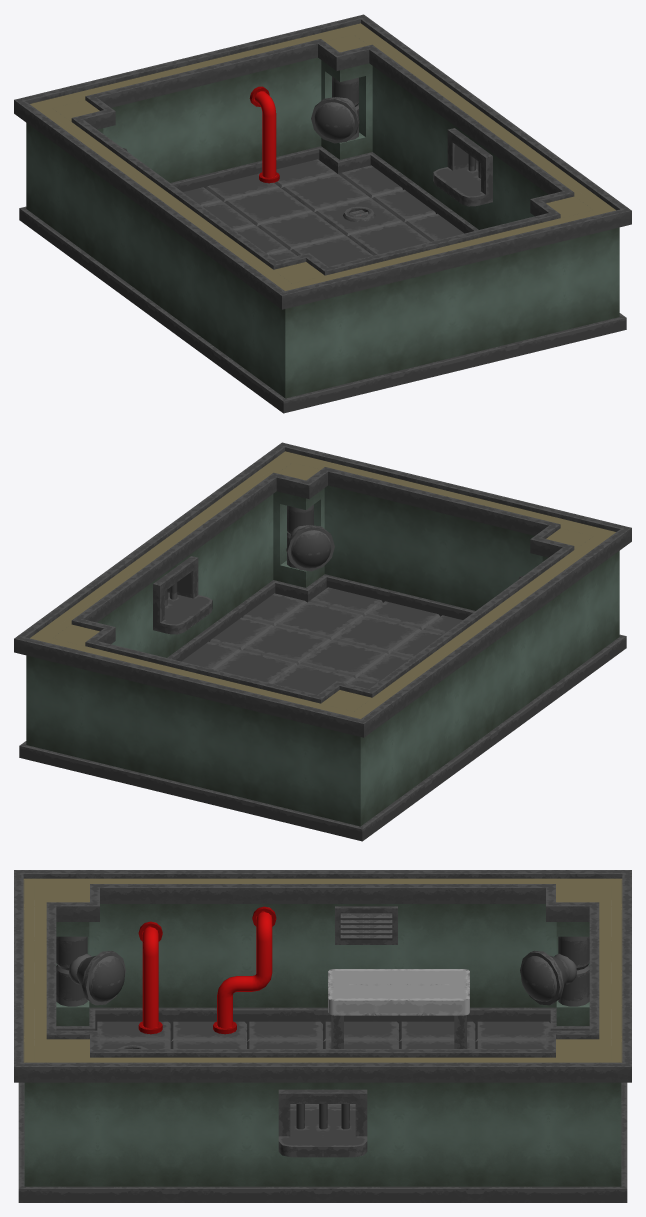
Rendered from RoomA.fbx.
3 views of the same model, one above another, from view 1: azimuth 30°, elevation 25°; view 2: azimuth 150°, elevation 25°; view 3: azimuth 270°, elevation 25° (orthographic). The views are drawn at different scales.
Parts seen in each view (by area): view 1: RoomA; view 2: RoomA; view 3: RoomA.
Boxes of the visible parts, box(x1,y1,x2,y2) form: RoomA: box(14, 14, 631, 413); RoomA: box(14, 442, 631, 841); RoomA: box(14, 870, 631, 1202).
Bounding box in the file's own units: 643 × 812 × 200.
1 material, 1 textured.
